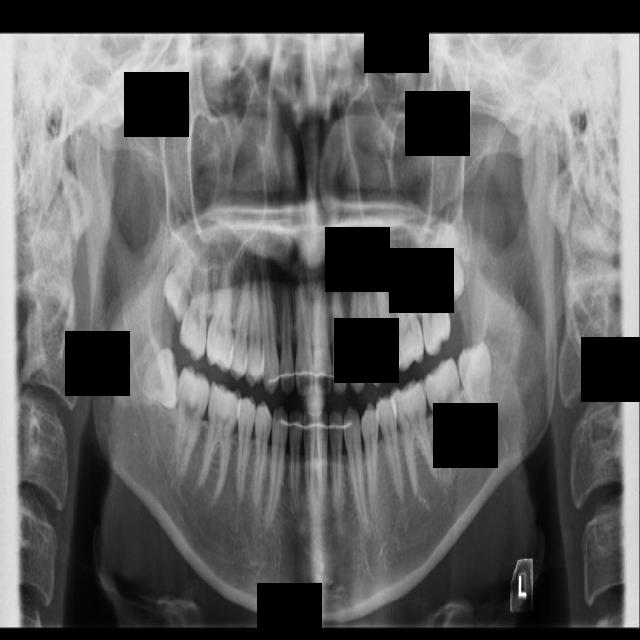3M ESPE Implant: (154, 213, 209, 326)
73: (606, 586, 606, 604)
BioHorizons Implant: (406, 221, 456, 357)
BioLife Implant: (432, 203, 467, 305)
Biomet 3i Implant: (452, 339, 509, 435)
Blue Sky Bio Implant: (419, 357, 472, 473)
Caries: (177, 235, 215, 363)
Implant: (164, 364, 214, 481)
Keystone Dental Implant: (136, 343, 191, 411)
